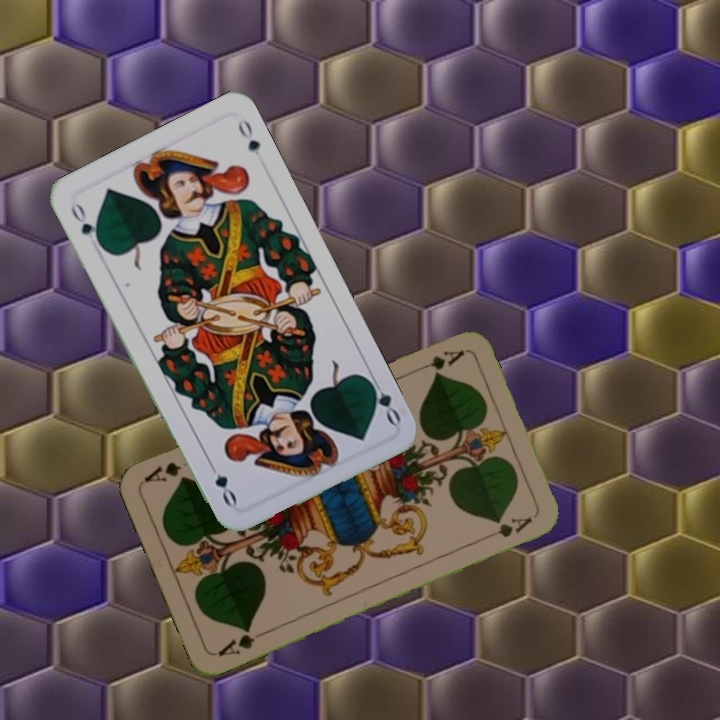GA: (213, 624, 269, 659), (409, 346, 467, 376)
GO: (363, 371, 404, 428), (66, 198, 105, 251)
